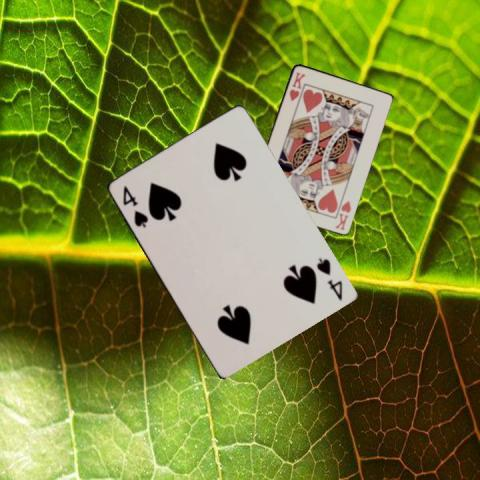4s: (313, 255, 344, 301), (119, 183, 149, 229)
Kh: (286, 69, 307, 102), (332, 198, 352, 232)
